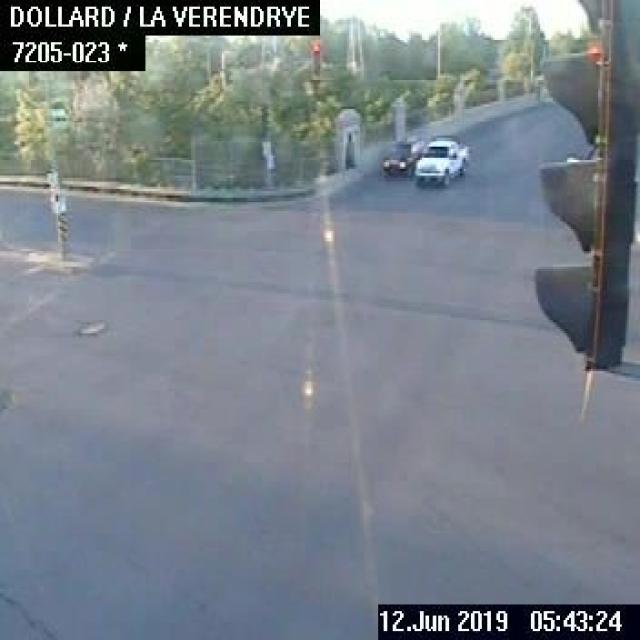vehicle: (412, 135, 470, 185), (378, 133, 424, 175)
